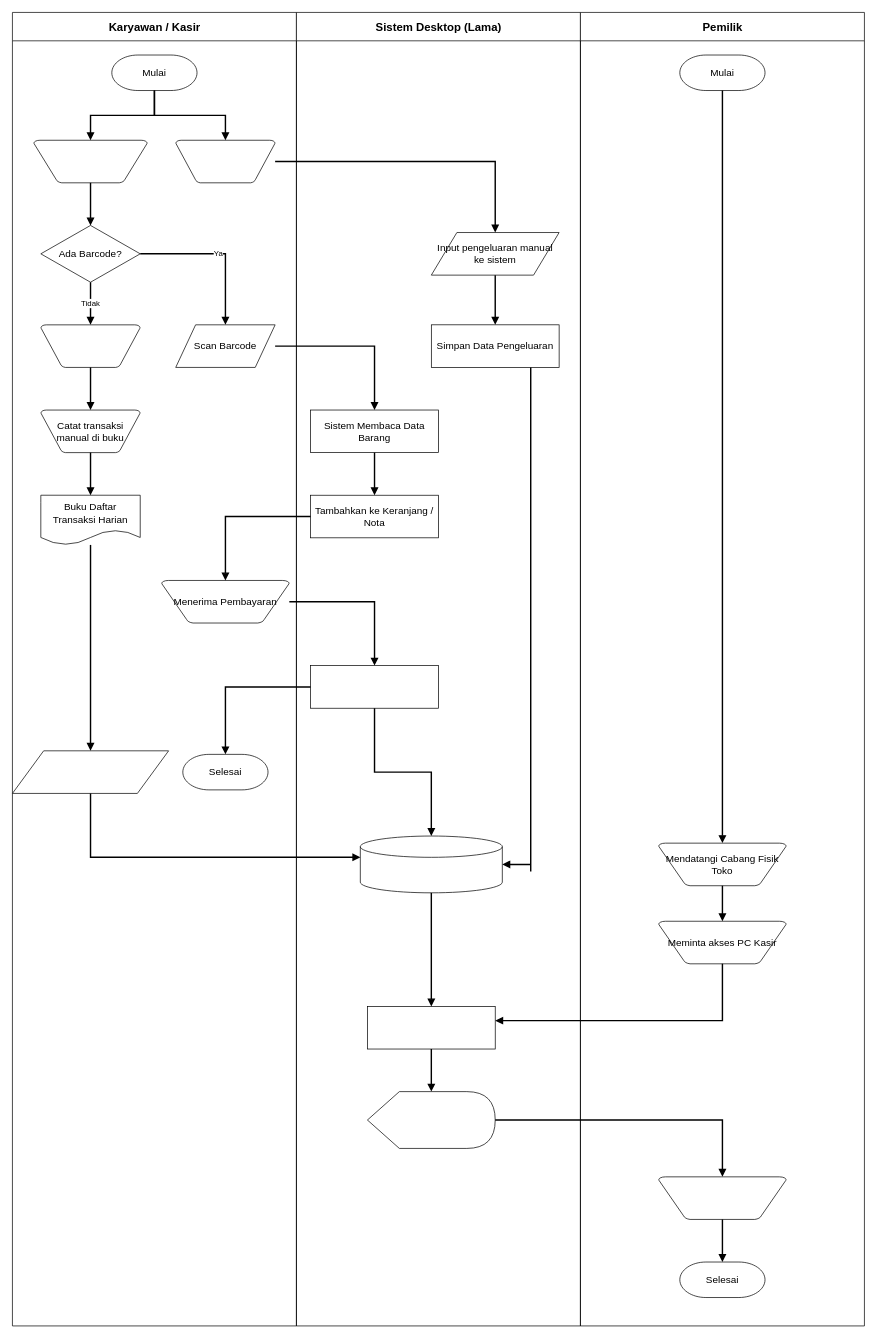
This 877x1338 diagram has some shape labels left out. The shapes that lost their labels are listed below. From the top down, each one's centre as x and y in pixels, then its label:
At pixel 90 161: "Menerima barang dari pelanggan".
At pixel 225 161: "Pengeluaran Harian (Kas Keluar)".
At pixel 90 345: "Cek Harga & Stok Manual".
At pixel 374 686: "Simpan Transaksi Penjualan".
At pixel 90 771: "Input ulang rekap buku manual ke PC di akhir shift".
At pixel 431 864: "Database Rsix Cell".
At pixel 431 1027: "Buka Menu Laporan".
At pixel 431 1119: "Menampilkan Laporan Penjualan di Layar".
At pixel 722 1197: "Melihat & Menganalisa Laporan".
